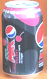pepsi: (2, 1, 45, 76)
